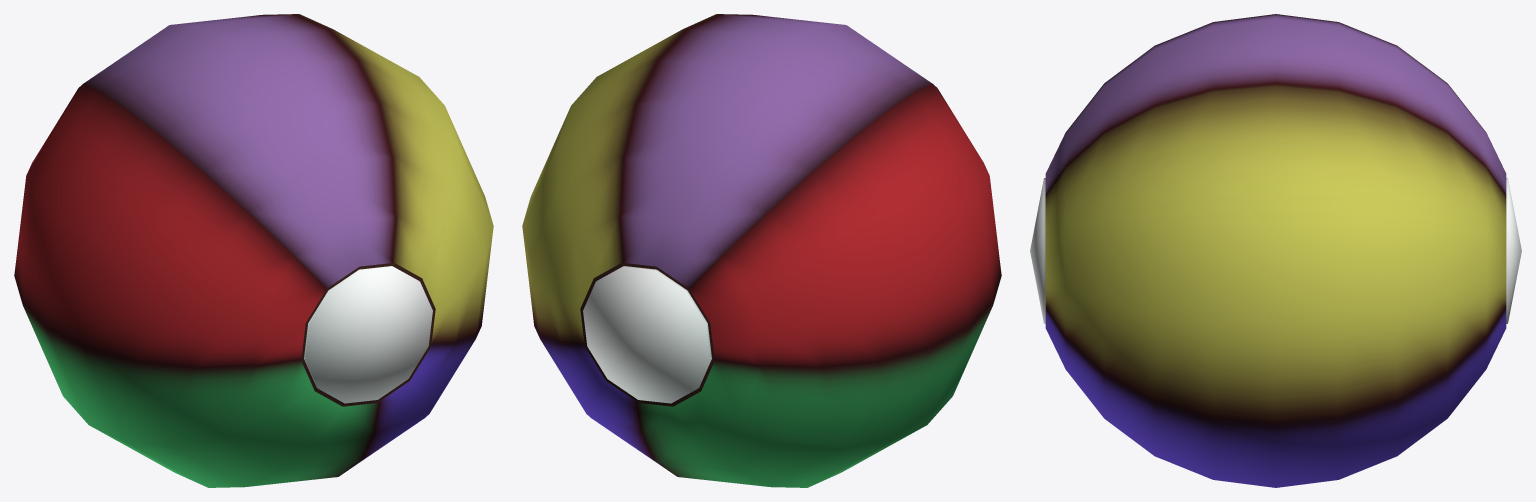
File: Beach_Ball.fbx
3 views of the same model, side by side, from view 1: azimuth 30°, elevation 25°; view 2: azimuth 150°, elevation 25°; view 3: azimuth 270°, elevation 25° (orthographic).
Parts seen in each view (by area): view 1: Sphere.029; view 2: Sphere.029; view 3: Sphere.029.
Boxes of the visible parts, box(x1,y1,x2,y2) form: Sphere.029: box(14, 14, 493, 487); Sphere.029: box(522, 14, 1001, 487); Sphere.029: box(1030, 14, 1521, 487).
Size of the model in its own units: 131 by 131 by 134.
